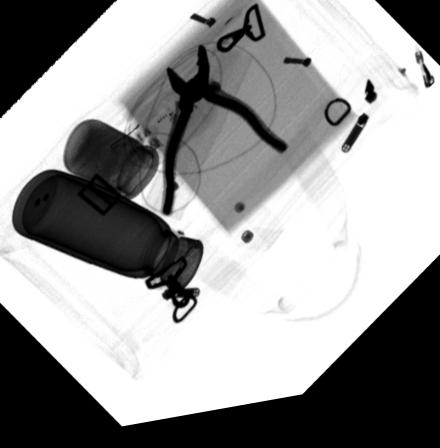Pliers: (160, 51, 288, 223)
